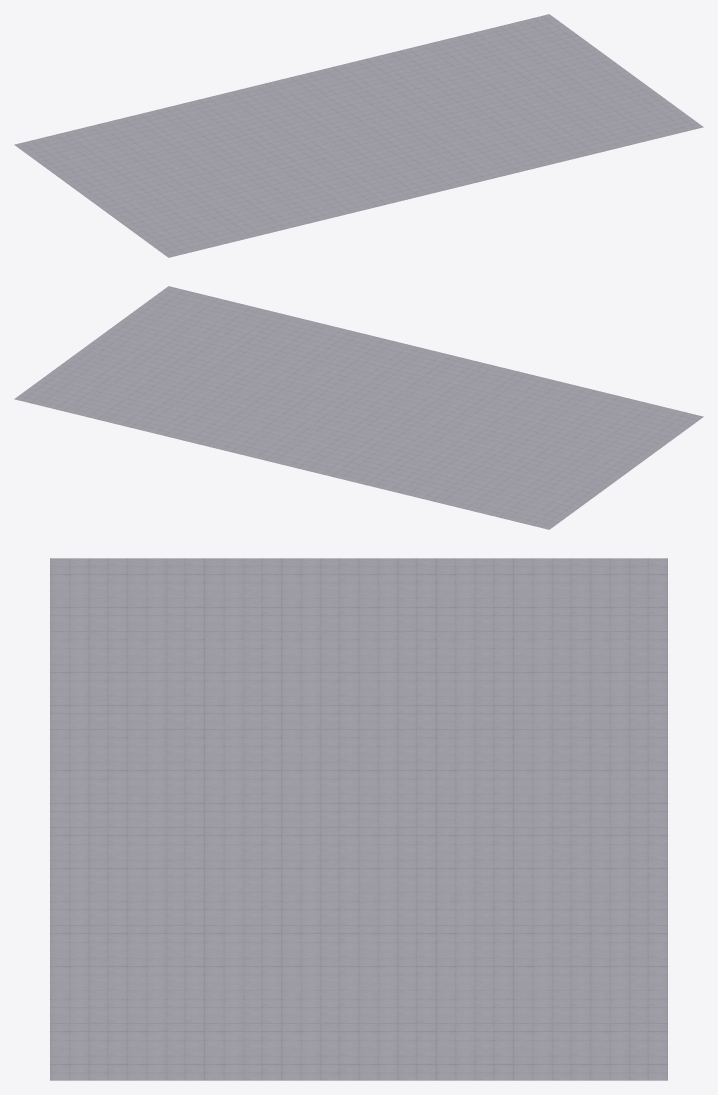
File: office.glb
3 renders of one model, top to bottom at view 1: azimuth 30°, elevation 25°; view 2: azimuth 150°, elevation 25°; view 3: azimuth 270°, elevation 25°, orthographic. The views are drawn at different scales.
Visible parts, largest first — view 1: Plane; view 2: Plane; view 3: Plane.
Part boxes in pixels (x1=…): Plane: x1=14, y1=14, x2=703, y2=257; Plane: x1=14, y1=286, x2=703, y2=529; Plane: x1=50, y1=558, x2=667, y2=1080.
Size of the model in its own units: 4 by 0 by 2.
1 material, 1 textured.
